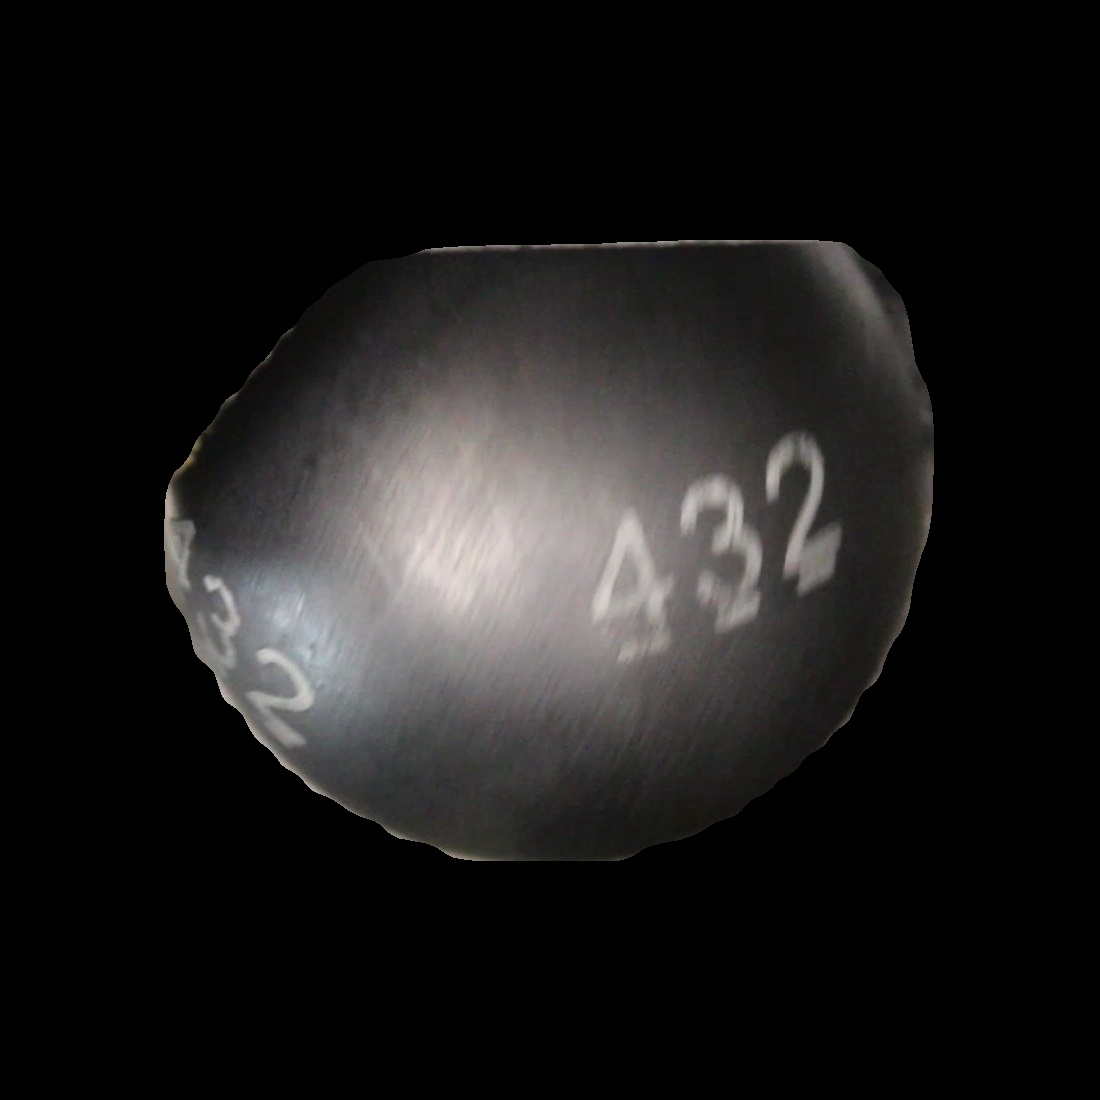digits: (589, 432, 842, 664)
